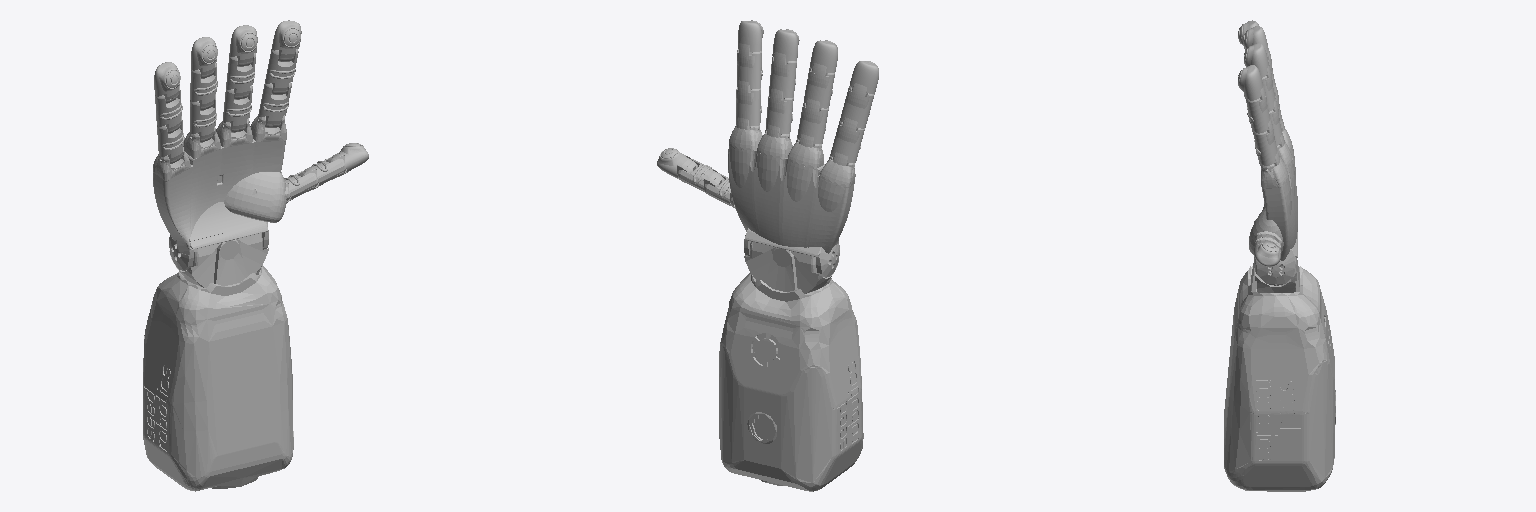
--- What the picture shows (computed from the rendered views, not written in the file) ---
Views: 3 orthographic renders of the robot side by side, from view 1: azimuth 30°, elevation 25°; view 2: azimuth 150°, elevation 25°; view 3: azimuth 270°, elevation 25°.
Robot: GEN3_URDF_V12 — 31 links, 30 joints (20 revolute, 4 continuous, 6 fixed); root link base_link; default pose: all joints at 0.
Visible links, largest first — view 1: forearm:1, palm, palm_axis:1, Index_Proximal, Index_Middle, Index_Distal, Middle_Distal, Middle_Middle, Middle_Proximal, Ring_Distal, Small_Distal, Ring_Middle (+6 smaller); view 2: forearm:1, palm, palm_axis:1, Small_Proximal, Small_Middle, Ring_Proximal, Ring_Middle, Middle_Middle, Index_Proximal, Middle_Proximal, Index_Middle, Small_Distal (+5 smaller); view 3: forearm:1, palm, Index_Distal, Index_Middle, Index_Proximal, Middle_Distal, Thumb_Distal.
Boxes of the visible links, x1,y1,x2,y2 form: forearm:1: [143, 239, 293, 491]; palm: [153, 115, 286, 270]; palm_axis:1: [169, 233, 268, 287]; Index_Proximal: [258, 82, 291, 127]; Index_Middle: [265, 49, 298, 94]; Index_Distal: [272, 20, 301, 61]; Middle_Distal: [229, 25, 257, 66]; Middle_Middle: [226, 53, 255, 99]; Middle_Proximal: [223, 85, 252, 132]; Ring_Distal: [191, 37, 217, 78]; Small_Distal: [154, 62, 180, 103]; Ring_Middle: [190, 63, 217, 110]; forearm:1: [719, 247, 863, 491]; palm: [728, 123, 855, 277]; palm_axis:1: [744, 241, 838, 293]; Small_Proximal: [830, 121, 864, 165]; Small_Middle: [840, 86, 874, 131]; Ring_Proximal: [797, 103, 828, 147]; Ring_Middle: [804, 67, 834, 111]; Middle_Middle: [769, 57, 796, 101]; Index_Proximal: [736, 86, 761, 129]; Middle_Proximal: [766, 93, 793, 137]; Index_Middle: [737, 49, 762, 92]; Small_Distal: [850, 61, 878, 96]; forearm:1: [1224, 258, 1335, 491]; palm: [1249, 129, 1297, 285]; Index_Distal: [1238, 65, 1265, 100]; Index_Middle: [1246, 96, 1272, 133]; Index_Proximal: [1253, 129, 1279, 165]; Middle_Distal: [1244, 43, 1271, 77]; Thumb_Distal: [1254, 242, 1280, 266].
Bounding box of the posed robot: 0.1653 × 0.0757 × 0.3227 m (x, y, z).
20 mesh visuals loaded from 16 distinct referenced files (8 OBJ); not drawn: 8 (reference not matched to a file when rendering).

robot.urdf — GEN3_URDF_V12:
<?xml version="1.0" ?>
<robot name="GEN3_URDF_V12" version="1.0">
  <link name="base_link">
    <inertial>
      <origin xyz="-0.000648 -0.000166 0.084487" rpy="0 0 0" />
      <mass value="1.697" />
      <inertia ixx="0.004622" ixy="9E-06" ixz="6E-05" iyy="0.004495" iyz="9E-06" izz="0.002079" />
    </inertial>
    <visual>
      <origin xyz="0 0 0" rpy="0 0 0" />
      <geometry>
        <mesh filename="meshes/base_link.STL" />
      </geometry>
      <material name="">
        <color rgba="0.75294 0.75294 0.75294 1" />
      </material>
    </visual>
    <collision>
      <origin xyz="0 0 0" rpy="0 0 0" />
      <geometry>
        <mesh filename="meshes/base_link.STL" />
      </geometry>
    </collision>
  </link>
  <link name="shoulder_link">
    <inertial>
      <origin xyz="-2.3E-05 -0.010364 -0.07336" rpy="0 0 0" />
      <mass value="1.3773" />
      <inertia ixx="0.00457" ixy="1E-06" ixz="2E-06" iyy="0.004831" iyz="0.000448" izz="0.001409" />
    </inertial>
    <visual>
      <origin xyz="0 0 0" rpy="0 0 0" />
      <geometry>
        <mesh filename="meshes/shoulder_link.STL" />
      </geometry>
      <material name="">
        <color rgba="0.75294 0.75294 0.75294 1" />
      </material>
    </visual>
    <collision>
      <origin xyz="0 0 0" rpy="0 0 0" />
      <geometry>
        <mesh filename="meshes/shoulder_link.STL" />
      </geometry>
    </collision>
  </link>
  <joint name="Actuator1" type="continuous">
    <origin xyz="0 0 0.15643" rpy="3.1416 2.7629E-18 -4.9305E-36" />
    <parent link="base_link" />
    <child link="shoulder_link" />
    <axis xyz="0 0 1" />
    <limit effort="39" velocity="0.8727" />
  </joint>
  <link name="HalfArm1_link">
    <inertial>
      <origin xyz="-4.4E-05 -0.09958 -0.013278" rpy="0 0 0" />
      <mass value="1.1636" />
      <inertia ixx="0.011088" ixy="5E-06" ixz="0" iyy="0.001072" iyz="-0.000691" izz="0.011255" />
    </inertial>
    <visual>
      <origin xyz="0 0 0" rpy="0 0 0" />
      <geometry>
        <mesh filename="meshes/half_arm_1_link.STL" />
      </geometry>
      <material name="">
        <color rgba="0.75294 0.75294 0.75294 1" />
      </material>
    </visual>
    <collision>
      <origin xyz="0 0 0" rpy="0 0 0" />
      <geometry>
        <mesh filename="meshes/half_arm_1_link.STL" />
      </geometry>
    </collision>
  </link>
  <joint name="Actuator2" type="revolute">
    <origin xyz="0 0.005375 -0.12838" rpy="1.5708 2.1343E-17 -1.1102E-16" />
    <parent link="shoulder_link" />
    <child link="HalfArm1_link" />
    <axis xyz="0 0 1" />
    <limit lower="-2.41" upper="2.41" effort="39" velocity="0.8727" />
  </joint>
  <link name="half_arm_2_link">
    <inertial>
      <origin xyz="-4.4E-05 -0.006641 -0.117892" rpy="0 0 0" />
      <mass value="1.1636" />
      <inertia ixx="0.010932" ixy="0" ixz="-7E-06" iyy="0.011127" iyz="0.000606" izz="0.001043" />
    </inertial>
    <visual>
      <origin xyz="0 0 0" rpy="0 0 0" />
      <geometry>
        <mesh filename="meshes/half_arm_2_link.STL" />
      </geometry>
      <material name="">
        <color rgba="0.75294 0.75294 0.75294 1" />
      </material>
    </visual>
    <collision>
      <origin xyz="0 0 0" rpy="0 0 0" />
      <geometry>
        <mesh filename="meshes/half_arm_2_link.STL" />
      </geometry>
    </collision>
  </link>
  <joint name="Actuator3" type="continuous">
    <origin xyz="0 -0.21038 -0.006375" rpy="-1.5708 1.2326E-32 -2.9122E-16" />
    <parent link="HalfArm1_link" />
    <child link="half_arm_2_link" />
    <axis xyz="0 0 1" />
    <limit effort="39" velocity="0.8727" />
  </joint>
  <link name="forearm_link">
    <inertial>
      <origin xyz="-1.8E-05 -0.075478 -0.015006" rpy="0 0 0" />
      <mass value="0.9302" />
      <inertia ixx="0.008147" ixy="-1E-06" ixz="0" iyy="0.000631" iyz="-0.0005" izz="0.008316" />
    </inertial>
    <visual>
      <origin xyz="0 0 0" rpy="0 0 0" />
      <geometry>
        <mesh filename="meshes/forearm_link.STL" />
      </geometry>
      <material name="">
        <color rgba="0.75294 0.75294 0.75294 1" />
      </material>
    </visual>
    <collision>
      <origin xyz="0 0 0" rpy="0 0 0" />
      <geometry>
        <mesh filename="meshes/forearm_link.STL" />
      </geometry>
    </collision>
  </link>
  <joint name="Actuator4" type="revolute">
    <origin xyz="0 0.006375 -0.21038" rpy="1.5708 -6.6954E-17 -1.6653E-16" />
    <parent link="half_arm_2_link" />
    <child link="forearm_link" />
    <axis xyz="0 0 1" />
    <limit lower="-2.66" upper="2.66" effort="39" velocity="0.8727" />
  </joint>
  <link name="spherical_wrist_1_link">
    <inertial>
      <origin xyz="1E-06 -0.009432 -0.063883" rpy="0 0 0" />
      <mass value="0.6781" />
      <inertia ixx="0.001596" ixy="0" ixz="0" iyy="0.001607" iyz="0.000256" izz="0.000399" />
    </inertial>
    <visual>
      <origin xyz="0 0 0" rpy="0 0 0" />
      <geometry>
        <mesh filename="meshes/spherical_wrist_1_link.STL" />
      </geometry>
      <material name="">
        <color rgba="0.75294 0.75294 0.75294 1" />
      </material>
    </visual>
    <collision>
      <origin xyz="0 0 0" rpy="0 0 0" />
      <geometry>
        <mesh filename="meshes/spherical_wrist_1_link.STL" />
      </geometry>
    </collision>
  </link>
  <joint name="Actuator5" type="continuous">
    <origin xyz="0 -0.20843 -0.006375" rpy="-1.5708 2.2204E-16 -6.373E-17" />
    <parent link="forearm_link" />
    <child link="spherical_wrist_1_link" />
    <axis xyz="0 0 1" />
    <limit effort="9" velocity="0.8727" />
  </joint>
  <link name="spherical_wrist_2_link">
    <inertial>
      <origin xyz="1E-06 -0.045483 -0.00965" rpy="0 0 0" />
      <mass value="0.6781" />
      <inertia ixx="0.001641" ixy="0" ixz="0" iyy="0.00041" iyz="-0.000278" izz="0.001641" />
    </inertial>
    <visual>
      <origin xyz="0 0 0" rpy="0 0 0" />
      <geometry>
        <mesh filename="meshes/spherical_wrist_2_link.STL" />
      </geometry>
      <material name="">
        <color rgba="0.75294 0.75294 0.75294 1" />
      </material>
    </visual>
    <collision>
      <origin xyz="0 0 0" rpy="0 0 0" />
      <geometry>
        <mesh filename="meshes/spherical_wrist_2_link.STL" />
      </geometry>
    </collision>
  </link>
  <joint name="Actuator6" type="revolute">
    <origin xyz="0 0.00017505 -0.10593" rpy="1.5708 9.2076E-28 -8.2157E-15" />
    <parent link="spherical_wrist_1_link" />
    <child link="spherical_wrist_2_link" />
    <axis xyz="0 0 1" />
    <limit lower="-2.23" upper="2.23" effort="9" velocity="0.8727" />
  </joint>
  <link name="bracelet_with_vision_link">
    <inertial>
      <origin xyz="-0.000281 -0.011402 -0.029798" rpy="0 0 0" />
      <mass value="0.5006" />
      <inertia ixx="0.000587" ixy="3E-06" ixz="3E-06" iyy="0.000369" iyz="0.000118" izz="0.000609" />
    </inertial>
    <visual>
      <origin xyz="0 0 0" rpy="0 0 0" />
      <geometry>
        <mesh filename="meshes/bracelet_with_vision_link.STL" />
      </geometry>
      <material name="">
        <color rgba="0.75294 0.75294 0.75294 1" />
      </material>
    </visual>
    <collision>
      <origin xyz="0 0 0" rpy="0 0 0" />
      <geometry>
        <mesh filename="meshes/bracelet_with_vision_link.STL" />
      </geometry>
    </collision>
  </link>
  <joint name="Actuator7" type="continuous">
    <origin xyz="0 -0.10593 -0.00017505" rpy="-1.5708 -5.5511E-17 9.6396E-17" />
    <parent link="spherical_wrist_2_link" />
    <child link="bracelet_with_vision_link" />
    <axis xyz="0 0 1" />
    <limit effort="9" velocity="0.8727" />
  </joint>
  <joint name="EndEffector" type="fixed">
    <origin xyz="0 0 -0.0615250000000001" rpy="3.14159265358979 1.09937075168372E-32 0" />
    <parent link="bracelet_with_vision_link" />
    <child link="hand_base:1" />
    <axis xyz="0 0 0" />
  </joint>
  <link name="hand_base:1">
    <inertial>
      <origin xyz="-1.7894e-05 4.25261e-05 0.00323829" rpy="0 0 0"/>
      <mass value="0.00707371"/>
      <inertia ixx="6.95609e-07" ixy="1.65614e-10" ixz="-3.46603e-10" iyy="7.00727e-07" iyz="8.23724e-10" izz="1.34782e-06"/>
    </inertial>
    <visual>
      <origin xyz="0 0 0.0045" rpy="0 0 0"/>
      <geometry>
        <mesh filename="base.obj" scale="0.001 0.001 0.001"/>
      </geometry>
      <material name="base:1_color">
        <color rgba="0.74902 0.74902 0.74902 1.0"/>
      </material>
    </visual>
    <collision>
      <origin xyz="0 0 0.0045" rpy="0 0 0"/>
      <geometry>
        <mesh filename="base.obj" scale="0.001 0.001 0.001"/>
      </geometry>
    </collision>
  </link>
  <link name="forearm:1">
    <inertial>
      <origin xyz="1.87963e-07 -0.0656522 -0.00271352" rpy="0 0 0"/>
      <mass value="0.740385"/>
      <inertia ixx="0.00130925" ixy="9.24573e-08" ixz="7.46281e-09" iyy="0.000680297" iyz="-5.0842e-06" izz="0.00146212"/>
    </inertial>
    <visual>
      <origin xyz="0 0 0" rpy="0 0 0"/>
      <geometry>
        <mesh filename="forearm.obj" scale="0.001 0.001 0.001"/>
      </geometry>
      <material name="forearm:1_color">
        <color rgba="0.74902 0.74902 0.74902 1.0"/>
      </material>
    </visual>
    <collision>
      <origin xyz="0 0 0" rpy="0 0 0"/>
      <geometry>
        <mesh filename="forearm.obj" scale="0.001 0.001 0.001"/>
      </geometry>
    </collision>
  </link>
  <joint name="forearm:1--base:1" type="revolute">
    <origin xyz="0 0 0.001" rpy="-1.57079632679 0 3.14159265359"/>
    <axis xyz="0.0 -1.0 0.0"/>
    <parent link="hand_base:1"/>
    <child link="forearm:1"/>
    <dynamics damping="0.1"/>
    <limit effort="0.5" lower="-1.57079632679" upper="1.57079632679" velocity="1.0"/>
  </joint>
  <link name="palm_axis:1">
    <inertial>
      <origin xyz="0 0.008585 0.0125" rpy="0 0 0"/>
      <mass value="0.0509809"/>
      <inertia ixx="9.79681e-06" ixy="0.0" ixz="0.0" iyy="1.37535e-05" iyz="0.0" izz="1.88432e-05"/>
    </inertial>
    <visual>
      <origin xyz="0 0 0.0125" rpy="0 0 0"/>
      <geometry>
        <mesh filename="palm axis.obj" scale="0.001 0.001 0.001"/>
      </geometry>
      <material name="palm_axis:1_color">
        <color rgba="0.74902 0.74902 0.74902 1.0"/>
      </material>
    </visual>
    <collision>
      <origin xyz="0 0 0.0125" rpy="0 0 0"/>
      <geometry>
        <mesh filename="palm axis.obj" scale="0.001 0.001 0.001"/>
      </geometry>
    </collision>
  </link>
  <joint name="palm_axis:1--forearm:1" type="fixed">
    <origin xyz="0 -0.165 -0.01275" rpy="0 0 0"/>
    <axis xyz="0.0 0.0 1.0"/>
    <parent link="forearm:1"/>
    <child link="palm_axis:1"/>
    <dynamics damping="0.1"/>
    <limit effort="0.5" lower="-0.785398163395" upper="0.785398163395" velocity="1.0"/>
    <limit effort="0.5" lower="-1.57079632679" upper="1.57079632679" velocity="1.0"/>
  </joint>
  <link name="grasp_link">
    <inertial>
      <mass value="0.001"/>
      <inertia ixx="0.0" ixy="0.0" ixz="0.0" iyy="0.0" iyz="0.0" izz="0.0"/>
      <!-- <origin xyz="-0.0428433081101 -0.00466110567748 0.0454719253018" rpy="0 0 0"/> -->
      <!-- <mass value="0.0820994"/> -->
      <!-- <inertia ixx="4.39253e-05" ixy="1.11426e-05" ixz="-1.28914e-05" iyy="9.20893e-05" iyz="1.14015e-05" izz="8.15763e-05"/> -->
    </inertial>
  </link>
  <joint name="grasp_joint" type="fixed">
    <!-- <origin xyz="0.0265 0 0.0125" rpy="1.3794331964 0.155855069444 -0.117563149369"/> -->
    <!-- <axis xyz="-0.981060237641 -0.173648197509 0.0858318916347"/> -->
    <origin rpy="0 0 0" xyz="-0.020 -0.07 0.045"/>
    <parent link="palm_axis:1"/>
    <child link="grasp_link"/>
    <!-- <dynamics damping="0.1"/> -->
    <!-- <limit effort="0.5" lower="-0.785398163395" upper="0.785398163395" velocity="1.0"/> -->
  </joint>
  <link name="palm">
    <inertial>
      <origin xyz="-0.0428433081101 -0.00466110567748 0.0454719253018" rpy="0 0 0"/>
      <mass value="0.0820994"/>
      <inertia ixx="4.39253e-05" ixy="1.11426e-05" ixz="-1.28914e-05" iyy="9.20893e-05" iyz="1.14015e-05" izz="8.15763e-05"/>
    </inertial>
    <visual>
      <origin xyz="-0.0586362307848 -0.00572412998384 0.0653211822683" rpy="0 0 0"/>
      <geometry>
        <mesh filename="palm assembly.obj" scale="0.001 0.001 0.001"/>
      </geometry>
      <material name="palm_color">
        <color rgba="0.74902 0.74902 0.74902 1.0"/>
      </material>
    </visual>
    <collision>
      <origin xyz="-0.0586362307848 -0.00572412998384 0.0653211822683" rpy="0 0 0"/>
      <geometry>
        <mesh filename="palm assembly.obj" scale="0.001 0.001 0.001"/>
      </geometry>
    </collision>
  </link>
  <joint name="palm--palm_axis:1" type="fixed">
    <origin xyz="0.0265 0 0.0125" rpy="1.3794331964 0.155855069444 -0.117563149369"/>
    <axis xyz="-0.981060237641 -0.173648197509 0.0858318916347"/>
    <parent link="palm_axis:1"/>
    <child link="palm"/>
    <dynamics damping="0.1"/>
    <limit effort="0.5" lower="-0.785398163395" upper="0.785398163395" velocity="1.0"/>
  </joint>
  <link name="Index_Proximal">
    <inertial>
      <origin xyz="-0.00506278435117 -0.000180345658716 -0.0109169244908" rpy="0 0 0"/>
      <mass value="0.00525864"/>
      <inertia ixx="5.33998e-07" ixy="2.78487e-10" ixz="-8.95438e-13" iyy="5.63087e-07" iyz="3.11448e-08" izz="1.84796e-07"/>
    </inertial>
    <visual>
      <origin xyz="-0.00506263291418 -1.44878402712e-07 -0.0129366519466" rpy="0 0 0"/>
      <geometry>
        <mesh filename="phalanx.obj" scale="0.001 0.001 0.001"/>
      </geometry>
      <material name="Index_Proximal_color">
        <color rgba="0.74902 0.74902 0.74902 1.0"/>
      </material>
    </visual>
    <collision>
      <origin xyz="-0.00506263291418 -1.44878402712e-07 -0.0129366519466" rpy="0 0 0"/>
      <geometry>
        <mesh filename="phalanx.obj" scale="0.001 0.001 0.001"/>
      </geometry>
    </collision>
  </link>
  <joint name="Index_Proximal--palm" type="revolute">
    <origin xyz="-0.0482112727788 -0.0207165887334 0.0857785939275" rpy="3.14159265359 0 0"/>
    <axis xyz="-1.0 0.0 0.0"/>
    <parent link="palm"/>
    <child link="Index_Proximal"/>
    <dynamics damping="0.1"/>
    <limit effort="0.5" lower="0" upper="1.57079632679" velocity="1.0"/>
  </joint>
  <link name="Index_Middle">
    <inertial>
      <origin xyz="-0.00506278900792 -0.000180374754105 -0.0109169301275" rpy="0 0 0"/>
      <mass value="0.00525864"/>
      <inertia ixx="5.33998e-07" ixy="2.78487e-10" ixz="-8.95438e-13" iyy="5.63087e-07" iyz="3.11448e-08" izz="1.84796e-07"/>
    </inertial>
    <visual>
      <origin xyz="-0.00506242359406 0 -0.0129376274323" rpy="0 0 0"/>
      <geometry>
        <mesh filename="phalanx.obj" scale="0.001 0.001 0.001"/>
      </geometry>
      <material name="Index_Middle_color">
        <color rgba="0.74902 0.74902 0.74902 1.0"/>
      </material>
    </visual>
    <collision>
      <origin xyz="-0.00506242359406 0 -0.0129376274323" rpy="0 0 0"/>
      <geometry>
        <mesh filename="phalanx.obj" scale="0.001 0.001 0.001"/>
      </geometry>
    </collision>
  </link>
  <joint name="Index_Middle--Index_Proximal" type="revolute">
    <origin xyz="6.24645473684e-05 0 -0.0258748304408" rpy="0 0 0"/>
    <axis xyz="-1.0 0.0 0.0"/>
    <parent link="Index_Proximal"/>
    <child link="Index_Middle"/>
    <dynamics damping="0.1"/>
    <limit effort="0.5" lower="0" upper="1.57079632679" velocity="1.0"/>
  </joint>
  <link name="Index_Distal">
    <inertial>
      <origin xyz="-0.00452224144659 -0.0026200341267 -0.0121245485266" rpy="0 0 0"/>
      <mass value="0.00650951"/>
      <inertia ixx="5.02476e-07" ixy="-6.66361e-09" ixz="5.02846e-09" iyy="5.2803e-07" iyz="-5.85168e-08" izz="3.30404e-07"/>
    </inertial>
    <visual>
      <origin xyz="-0.00506252565787 0 4.01497022018e-07" rpy="0 0 0"/>
      <geometry>
        <mesh filename="tip.obj" scale="0.001 0.001 0.001"/>
      </geometry>
      <material name="Index_Distal_color">
        <color rgba="0.74902 0.74902 0.74902 1.0"/>
      </material>
    </visual>
    <collision>
      <origin xyz="-0.00506252565787 0 4.01497022018e-07" rpy="0 0 0"/>
      <geometry>
        <mesh filename="tip.obj" scale="0.001 0.001 0.001"/>
      </geometry>
    </collision>
  </link>
  <joint name="Index_Distal--Index_Middle" type="revolute">
    <origin xyz="6.24629951198e-05 0 -0.0258748323197" rpy="0 0 0"/>
    <axis xyz="-1.0 0.0 0.0"/>
    <parent link="Index_Middle"/>
    <child link="Index_Distal"/>
    <dynamics damping="0.1"/>
    <limit effort="0.5" lower="0" upper="1.57079632679" velocity="1.0"/>
  </joint>
  <link name="fftip">
    <inertial>
      <mass value="0.001"/>
      <inertia ixx="0.0" ixy="0.0" ixz="0.0" iyy="0.0" iyz="0.0" izz="0.0"/>
    </inertial>
  </link>
  <joint name="FFtip" type="fixed">
    <parent link="Index_Distal"/>
    <child link="fftip"/>
    <origin rpy="0 0 0" xyz="-0.005 -0.009 -0.020"/>
  </joint>
  <link name="Small_Proximal">
    <inertial>
      <origin xyz="-0.00506277998719 -0.000180310009626 -0.0109170589442" rpy="0 0 0"/>
      <mass value="0.00525864"/>
      <inertia ixx="5.33998e-07" ixy="2.78487e-10" ixz="-8.95438e-13" iyy="5.63087e-07" iyz="3.11448e-08" izz="1.84796e-07"/>
    </inertial>
    <visual>
      <origin xyz="-0.00506255509062 0 -0.0129377737498" rpy="0 0 0"/>
      <geometry>
        <mesh filename="phalanx.obj" scale="0.001 0.001 0.001"/>
      </geometry>
      <material name="Small_Proximal_color">
        <color rgba="0.74902 0.74902 0.74902 1.0"/>
      </material>
    </visual>
    <collision>
      <origin xyz="-0.00506255509062 0 -0.0129377737498" rpy="0 0 0"/>
      <geometry>
        <mesh filename="phalanx.obj" scale="0.001 0.001 0.001"/>
      </geometry>
    </collision>
  </link>
  <joint name="Small_Proximal--palm" type="revolute">
    <origin xyz="0.0235505158035 -0.00577398807353 0.0699044596946" rpy="-3.11077106287 0.256444763551 0.355662128572"/>
    <axis xyz="-1.0 0.0 0.0"/>
    <parent link="palm"/>
    <child link="Small_Proximal"/>
    <dynamics damping="0.1"/>
    <limit effort="0.5" lower="0" upper="1.57079632679" velocity="1.0"/>
  </joint>
  <link name="Small_Middle">
    <inertial>
      <origin xyz="-0.00506277998719 -0.000180310009626 -0.0109170589442" rpy="0 0 0"/>
      <mass value="0.00525864"/>
      <inertia ixx="5.33998e-07" ixy="2.78487e-10" ixz="-8.95438e-13" iyy="5.63087e-07" iyz="3.11448e-08" izz="1.84796e-07"/>
    </inertial>
    <visual>
      <origin xyz="-0.00506255232545 0 -0.012937777764" rpy="0 0 0"/>
      <geometry>
        <mesh filename="phalanx.obj" scale="0.001 0.001 0.001"/>
      </geometry>
      <material name="Small_Middle_color">
        <color rgba="0.74902 0.74902 0.74902 1.0"/>
      </material>
    </visual>
    <collision>
      <origin xyz="-0.00506255232545 0 -0.012937777764" rpy="0 0 0"/>
      <geometry>
        <mesh filename="phalanx.obj" scale="0.001 0.001 0.001"/>
      </geometry>
    </collision>
  </link>
  <joint name="Small_Middle--Small_Proximal" type="revolute">
    <origin xyz="6.24422847373e-05 0 -0.025875246546" rpy="0 0 0"/>
    <axis xyz="-1.0 0.0 0.0"/>
    <parent link="Small_Proximal"/>
    <child link="Small_Middle"/>
    <dynamics damping="0.1"/>
    <limit effort="0.5" lower="0" upper="1.57079632679" velocity="1.0"/>
  </joint>
  <link name="Small_Distal">
    <inertial>
      <origin xyz="-0.00452231685738 -0.00261999676819 -0.0121244747955" rpy="0 0 0"/>
      <mass value="0.00650951"/>
      <inertia ixx="5.02476e-07" ixy="-6.66361e-09" ixz="5.02846e-09" iyy="5.2803e-07" iyz="-5.85168e-08" izz="3.30404e-07"/>
    </inertial>
    <visual>
      <origin xyz="-0.00506243538681 0 0" rpy="0 0 0"/>
      <geometry>
        <mesh filename="tip.obj" scale="0.001 0.001 0.001"/>
      </geometry>
      <material name="Small_Distal_color">
        <color rgba="0.74902 0.74902 0.74902 1.0"/>
      </material>
    </visual>
    <collision>
      <origin xyz="-0.00506243538681 0 0" rpy="0 0 0"/>
      <geometry>
        <mesh filename="tip.obj" scale="0.001 0.001 0.001"/>
      </geometry>
    </collision>
  </link>
  <joint name="Small_Distal--Small_Middle" type="revolute">
    <origin xyz="6.2445049899e-05 0 -0.0258752505602" rpy="0 0 0"/>
    <axis xyz="-1.0 0.0 0.0"/>
    <parent link="Small_Middle"/>
    <child link="Small_Distal"/>
    <dynamics damping="0.1"/>
    <limit effort="0.5" lower="0" upper="1.57079632679" velocity="1.0"/>
  </joint>
  <link name="Ring_Proximal">
    <inertial>
      <origin xyz="-0.00506284081372 -0.000180313709044 -0.0109171059885" rpy="0 0 0"/>
      <mass value="0.00525864"/>
      <inertia ixx="5.33998e-07" ixy="2.78487e-10" ixz="-8.95438e-13" iyy="5.63087e-07" iyz="3.11448e-08" izz="1.84796e-07"/>
    </inertial>
    <visual>
      <origin xyz="-0.00506248142699 0 -0.0129378438142" rpy="0 0 0"/>
      <geometry>
        <mesh filename="phalanx.obj" scale="0.001 0.001 0.001"/>
      </geometry>
      <material name="Ring_Proximal_color">
        <color rgba="0.74902 0.74902 0.74902 1.0"/>
      </material>
    </visual>
    <collision>
      <origin xyz="-0.00506248142699 0 -0.0129378438142" rpy="0 0 0"/>
      <geometry>
        <mesh filename="phalanx.obj" scale="0.001 0.001 0.001"/>
      </geometry>
    </collision>
  </link>
  <joint name="Ring_Proximal--palm" type="revolute">
    <origin xyz="0.000973216829098 -0.0139441965271 0.0805959138174" rpy="-3.11901269802 0.171571312654 0.262906952385"/>
    <axis xyz="-1.0 0.0 0.0"/>
    <parent link="palm"/>
    <child link="Ring_Proximal"/>
    <dynamics damping="0.1"/>
    <limit effort="0.5" lower="0" upper="1.57079632679" velocity="1.0"/>
  </joint>
  <link name="Ring_Middle">
    <inertial>
      <origin xyz="-0.00506274155761 -0.000180305174392 -0.0109171146709" rpy="0 0 0"/>
      <mass value="0.00525864"/>
      <inertia ixx="5.33998e-07" ixy="2.78487e-10" ixz="-8.95438e-13" iyy="5.63087e-07" iyz="3.11448e-08" izz="1.84796e-07"/>
    </inertial>
    <visual>
      <origin xyz="-0.00506238083398 -1.10193487952e-07 -0.0129368640729" rpy="0 0 0"/>
      <geometry>
        <mesh filename="phalanx.obj" scale="0.001 0.001 0.001"/>
      </geometry>
      <material name="Ring_Middle_color">
        <color rgba="0.74902 0.74902 0.74902 1.0"/>
      </material>
    </visual>
    <collision>
      <origin xyz="-0.00506238083398 -1.10193487952e-07 -0.0129368640729" rpy="0 0 0"/>
      <geometry>
        <mesh filename="phalanx.obj" scale="0.001 0.001 0.001"/>
      </geometry>
    </collision>
  </link>
  <joint name="Ring_Middle--Ring_Proximal" type="revolute">
    <origin xyz="6.24427654286e-05 0 -0.0258754729631" rpy="0 0 0"/>
    <axis xyz="-1.0 0.0 0.0"/>
    <parent link="Ring_Proximal"/>
    <child link="Ring_Middle"/>
    <dynamics damping="0.1"/>
    <limit effort="0.5" lower="0" upper="1.57079632679" velocity="1.0"/>
  </joint>
  <link name="Ring_Distal">
    <inertial>
      <origin xyz="-0.00452232167354 -0.00261988745332 -0.0121254207908" rpy="0 0 0"/>
      <mass value="0.00650951"/>
      <inertia ixx="5.02476e-07" ixy="-6.66361e-09" ixz="5.02846e-09" iyy="5.2803e-07" iyz="-5.85168e-08" izz="3.30404e-07"/>
    </inertial>
    <visual>
      <origin xyz="-0.0050625351673 1.36100817921e-07 -7.35728582724e-07" rpy="0 0 0"/>
      <geometry>
        <mesh filename="tip.obj" scale="0.001 0.001 0.001"/>
      </geometry>
      <material name="Ring_Distal_color">
        <color rgba="0.74902 0.74902 0.74902 1.0"/>
      </material>
    </visual>
    <collision>
      <origin xyz="-0.0050625351673 1.36100817921e-07 -7.35728582724e-07" rpy="0 0 0"/>
      <geometry>
        <mesh filename="tip.obj" scale="0.001 0.001 0.001"/>
      </geometry>
    </collision>
  </link>
  <joint name="Ring_Distal--Ring_Middle" type="revolute">
    <origin xyz="6.25413009675e-05 0 -0.0258744878078" rpy="0 0 0"/>
    <axis xyz="-1.0 0.0 0.0"/>
    <parent link="Ring_Middle"/>
    <child link="Ring_Distal"/>
    <dynamics damping="0.1"/>
    <limit effort="0.5" lower="0" upper="1.57079632679" velocity="1.0"/>
  </joint>
  <link name="Thumb_axis">
    <inertial>
      <origin xyz="7.36613628871e-07 -0.0127283513389 0.00779959601156" rpy="0 0 0"/>
      <mass value="0.00876232"/>
      <inertia ixx="7.97659e-07" ixy="-2.13078e-11" ixz="1.46581e-10" iyy="5.89711e-07" iyz="1.57887e-07" izz="6.43805e-07"/>
    </inertial>
    <visual>
      <origin xyz="-2.04910140453e-07 -0.0143541102422 0.0211785487783" rpy="0 0 0"/>
      <geometry>
        <mesh filename="thumb base.obj" scale="0.001 0.001 0.001"/>
      </geometry>
      <material name="Thumb_axis_color">
        <color rgba="0.74902 0.74902 0.74902 1.0"/>
      </material>
    </visual>
    <collision>
      <origin xyz="-2.04910140453e-07 -0.0143541102422 0.0211785487783" rpy="0 0 0"/>
      <geometry>
        <mesh filename="thumb base.obj" scale="0.001 0.001 0.001"/>
      </geometry>
    </collision>
  </link>
  <joint name="Thumb_axis--palm" type="revolute">
    <origin xyz="-0.040359256602 -0.0128548401414 0.0384218295136" rpy="1.20616678326 0.474749123724 -1.5208118789"/>
    <axis xyz="0.0 -0.866025655797 0.5000003546"/>
    <parent link="palm"/>
    <child link="Thumb_axis"/>
    <dynamics damping="0.1"/>
    <limit effort="0.5" lower="0" upper="1.57079632679" velocity="1.0"/>
  </joint>
  <link name="Thumb_Methacarpal">
    <inertial>
      <origin xyz="0.00506187100169 -0.000203739665014 -0.00873380148432" rpy="0 0 0"/>
      <mass value="0.00441372"/>
      <inertia ixx="4.06755e-07" ixy="1.25794e-10" ixz="-2.15458e-11" iyy="4.30738e-07" iyz="3.03927e-08" izz="1.53447e-07"/>
    </inertial>
    <visual>
      <origin xyz="0.00506253767579 1.23612574093e-07 -0.0107930266817" rpy="0 0 0"/>
      <geometry>
        <mesh filename="thumb_phalanx.obj" scale="0.001 0.001 0.001"/>
      </geometry>
      <material name="Thumb_Methacarpal_color">
        <color rgba="0.74902 0.74902 0.74902 1.0"/>
      </material>
    </visual>
    <collision>
      <origin xyz="0.00506253767579 1.23612574093e-07 -0.0107930266817" rpy="0 0 0"/>
      <geometry>
        <mesh filename="thumb_phalanx.obj" scale="0.001 0.001 0.001"/>
      </geometry>
    </collision>
  </link>
  <joint name="Thumb_Methacarpal--Thumb_axis" type="revolute">
    <origin xyz="-0.00512513682608 -0.0143543479571 0.0211784114035" rpy="-3.14159265359 0 0"/>
    <axis xyz="-1.0 0.0 0.0"/>
    <parent link="Thumb_axis"/>
    <child link="Thumb_Methacarpal"/>
    <dynamics damping="0.1"/>
    <limit effort="0.5" lower="0" upper="1.57079632679" velocity="1.0"/>
    <limit effort="0.5" lower="0" upper="1.57079632679" velocity="1.0"/>
  </joint>
  <link name="Thumb_Proximal">
    <inertial>
      <origin xyz="0.00506186145872 -0.000203736676427 -0.00873380148432" rpy="0 0 0"/>
      <mass value="0.00441372"/>
      <inertia ixx="4.06755e-07" ixy="1.25794e-10" ixz="-2.15458e-11" iyy="4.30738e-07" iyz="3.03927e-08" izz="1.53447e-07"/>
    </inertial>
    <visual>
      <origin xyz="0.00506252813282 1.26601161748e-07 -0.0107930266817" rpy="0 0 0"/>
      <geometry>
        <mesh filename="thumb_phalanx.obj" scale="0.001 0.001 0.001"/>
      </geometry>
      <material name="Thumb_Proximal_color">
        <color rgba="0.74902 0.74902 0.74902 1.0"/>
      </material>
    </visual>
    <collision>
      <origin xyz="0.00506252813282 1.26601161748e-07 -0.0107930266817" rpy="0 0 0"/>
      <geometry>
        <mesh filename="thumb_phalanx.obj" scale="0.001 0.001 0.001"/>
      </geometry>
    </collision>
  </link>
  <joint name="Thumb_Proximal--Thumb_Methacarpal" type="revolute">
    <origin xyz="-0.000562562378419 -2.358974244e-07 -0.0215860713527" rpy="0 0 0"/>
    <axis xyz="-1.0 0.0 0.0"/>
    <parent link="Thumb_Methacarpal"/>
    <child link="Thumb_Proximal"/>
    <dynamics damping="0.1"/>
    <limit effort="0.5" lower="0" upper="1.57079632679" velocity="1.0"/>
  </joint>
  <link name="Thumb_Distal">
    <inertial>
      <origin xyz="0.00560256228551 -0.00262056530945 -0.0121248013919" rpy="0 0 0"/>
      <mass value="0.00650951"/>
      <inertia ixx="5.02476e-07" ixy="-6.66361e-09" ixz="5.02846e-09" iyy="5.2803e-07" iyz="-5.85168e-08" izz="3.30404e-07"/>
    </inertial>
    <visual>
      <origin xyz="0.00506251081285 -1.31622580696e-07 0" rpy="0 0 0"/>
      <geometry>
        <mesh filename="tip.obj" scale="0.001 0.001 0.001"/>
      </geometry>
      <material name="Thumb_Distal_color">
        <color rgba="0.74902 0.74902 0.74902 1.0"/>
      </material>
    </visual>
    <collision>
      <origin xyz="0.00506251081285 -1.31622580696e-07 0" rpy="0 0 0"/>
      <geometry>
        <mesh filename="tip.obj" scale="0.001 0.001 0.001"/>
      </geometry>
    </collision>
  </link>
  <joint name="Thumb_Distal--Thumb_Proximal" type="revolute">
    <origin xyz="-6.23673772064e-05 6.16562595063e-07 -0.0215858466878" rpy="0 0 0"/>
    <axis xyz="-1.0 0.0 0.0"/>
    <parent link="Thumb_Proximal"/>
    <child link="Thumb_Distal"/>
    <dynamics damping="0.1"/>
    <limit effort="0.5" lower="0" upper="1.57079632679" velocity="1.0"/>
  </joint>
  <link name="thtip">
    <inertial>
      <mass value="0.001"/>
      <inertia ixx="0.0" ixy="0.0" ixz="0.0" iyy="0.0" iyz="0.0" izz="0.0"/>
    </inertial>
  </link>
  <joint name="thtip" type="fixed">
    <parent link="Thumb_Distal"/>
    <child link="thtip"/>
    <origin rpy="0 0 0" xyz="0.005 -0.009 -0.017"/>
    <!-- <origin rpy="0 0 0" xyz="-0.005 -0.009 -0.020"/> -->
  </joint>
  <link name="Middle_Proximal">
    <inertial>
      <origin xyz="-0.00506278772719 -0.000180392439195 -0.0109166761152" rpy="0 0 0"/>
      <mass value="0.00525864"/>
      <inertia ixx="5.33998e-07" ixy="2.78487e-10" ixz="-8.95438e-13" iyy="5.63087e-07" iyz="3.11448e-08" izz="1.84796e-07"/>
    </inertial>
    <visual>
      <origin xyz="-0.00506247033515 0 -0.0129371735288" rpy="0 0 0"/>
      <geometry>
        <mesh filename="phalanx.obj" scale="0.001 0.001 0.001"/>
      </geometry>
      <material name="Middle_Proximal_color">
        <color rgba="0.74902 0.74902 0.74902 1.0"/>
      </material>
    </visual>
    <collision>
      <origin xyz="-0.00506247033515 0 -0.0129371735288" rpy="0 0 0"/>
      <geometry>
        <mesh filename="phalanx.obj" scale="0.001 0.001 0.001"/>
      </geometry>
    </collision>
  </link>
  <joint name="Middle_Proximal--palm" type="revolute">
    <origin xyz="-0.0230981834929 -0.0192207324411 0.0841790263799" rpy="-3.13396731541 0.0869338244067 0.0875981329446"/>
    <axis xyz="-1.0 0.0 0.0"/>
    <parent link="palm"/>
    <child link="Middle_Proximal"/>
    <dynamics damping="0.1"/>
    <limit effort="0.5" lower="0" upper="1.57079632679" velocity="1.0"/>
  </joint>
  <link name="Middle_Middle">
    <inertial>
      <origin xyz="-0.00506283227864 -0.000180213241689 -0.0109176607494" rpy="0 0 0"/>
      <mass value="0.00525864"/>
      <inertia ixx="5.33998e-07" ixy="2.78487e-10" ixz="-8.95438e-13" iyy="5.63087e-07" iyz="3.11448e-08" izz="1.84796e-07"/>
    </inertial>
    <visual>
      <origin xyz="-0.0050625148866 1.09877888968e-07 -0.0129381581629" rpy="0 0 0"/>
      <geometry>
        <mesh filename="phalanx.obj" scale="0.001 0.001 0.001"/>
      </geometry>
      <material name="Middle_Middle_color">
        <color rgba="0.74902 0.74902 0.74902 1.0"/>
      </material>
    </visual>
    <collision>
      <origin xyz="-0.0050625148866 1.09877888968e-07 -0.0129381581629" rpy="0 0 0"/>
      <geometry>
        <mesh filename="phalanx.obj" scale="0.001 0.001 0.001"/>
      </geometry>
    </collision>
  </link>
  <joint name="Middle_Middle--Middle_Proximal" type="revolute">
    <origin xyz="6.24843158252e-05 -1.52847487569e-07 -0.0258741661566" rpy="0 0 0"/>
    <axis xyz="-1.0 0.0 0.0"/>
    <parent link="Middle_Proximal"/>
    <child link="Middle_Middle"/>
    <dynamics damping="0.1"/>
    <limit effort="0.5" lower="0" upper="1.57079632679" velocity="1.0"/>
  </joint>
  <link name="Middle_Distal">
    <inertial>
      <origin xyz="-0.00452227064981 -0.00261993054795 -0.0121248592907" rpy="0 0 0"/>
      <mass value="0.00650951"/>
      <inertia ixx="5.02476e-07" ixy="-6.66361e-09" ixz="5.02846e-09" iyy="5.2803e-07" iyz="-5.85168e-08" izz="3.30404e-07"/>
    </inertial>
    <visual>
      <origin xyz="-0.00506247566984 0 -6.09795279438e-07" rpy="0 0 0"/>
      <geometry>
        <mesh filename="tip.obj" scale="0.001 0.001 0.001"/>
      </geometry>
      <material name="Middle_Distal_color">
        <color rgba="0.74902 0.74902 0.74902 1.0"/>
      </material>
    </visual>
    <collision>
      <origin xyz="-0.00506247566984 0 -6.09795279438e-07" rpy="0 0 0"/>
      <geometry>
        <mesh filename="tip.obj" scale="0.001 0.001 0.001"/>
      </geometry>
    </collision>
  </link>
  <joint name="Middle_Distal--Middle_Middle" type="revolute">
    <origin xyz="6.24995360613e-05 0 -0.0258751507907" rpy="0 0 0"/>
    <axis xyz="-1.0 0.0 0.0"/>
    <parent link="Middle_Middle"/>
    <child link="Middle_Distal"/>
    <dynamics damping="0.1"/>
    <limit effort="0.5" lower="0" upper="1.57079632679" velocity="1.0"/>
  </joint>
</robot>
